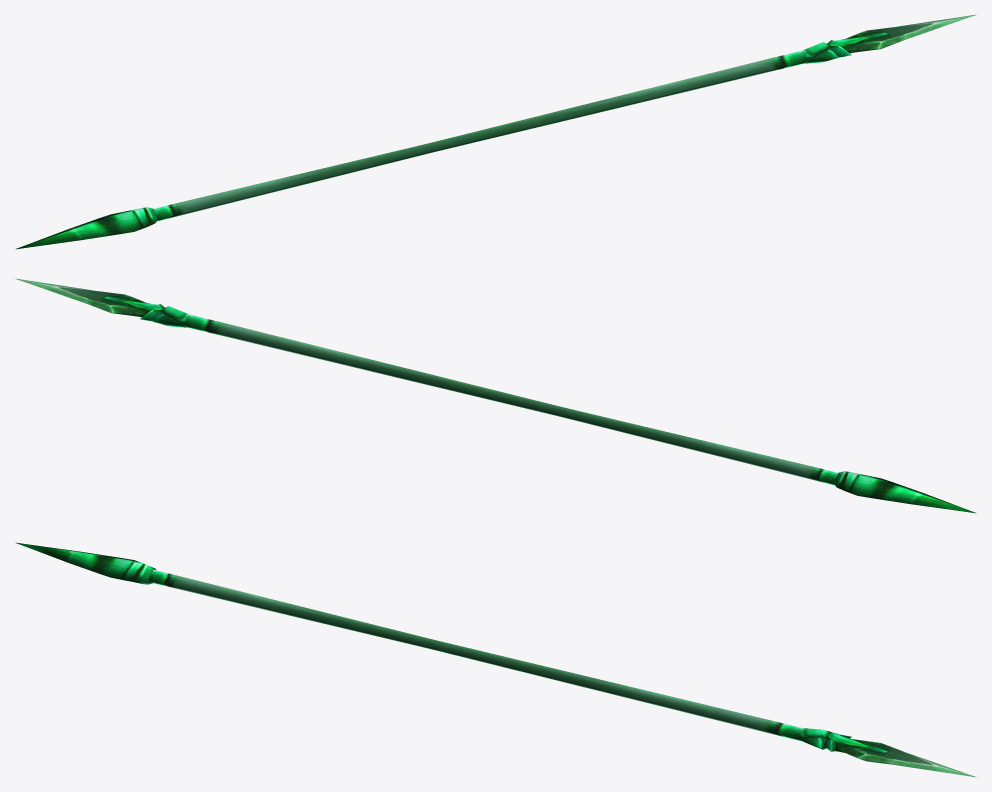
File: changqiang.FBX
The picture shows the model from 3 angles, top to bottom: view 1: azimuth 30°, elevation 25°; view 2: azimuth 150°, elevation 25°; view 3: azimuth 330°, elevation 25°; orthographic projection.
Parts seen in each view (by area): view 1: pzs_weaponA001; view 2: pzs_weaponA001; view 3: pzs_weaponA001.
Part boxes in pixels (box(x1,y1,x2,y2)): pzs_weaponA001: box(15, 14, 976, 249); pzs_weaponA001: box(15, 278, 976, 513); pzs_weaponA001: box(15, 542, 976, 777).
Size of the model in its own units: 322 by 6.5 by 13.81.
